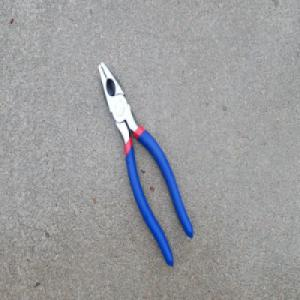Pliers: (96, 58, 194, 270)
